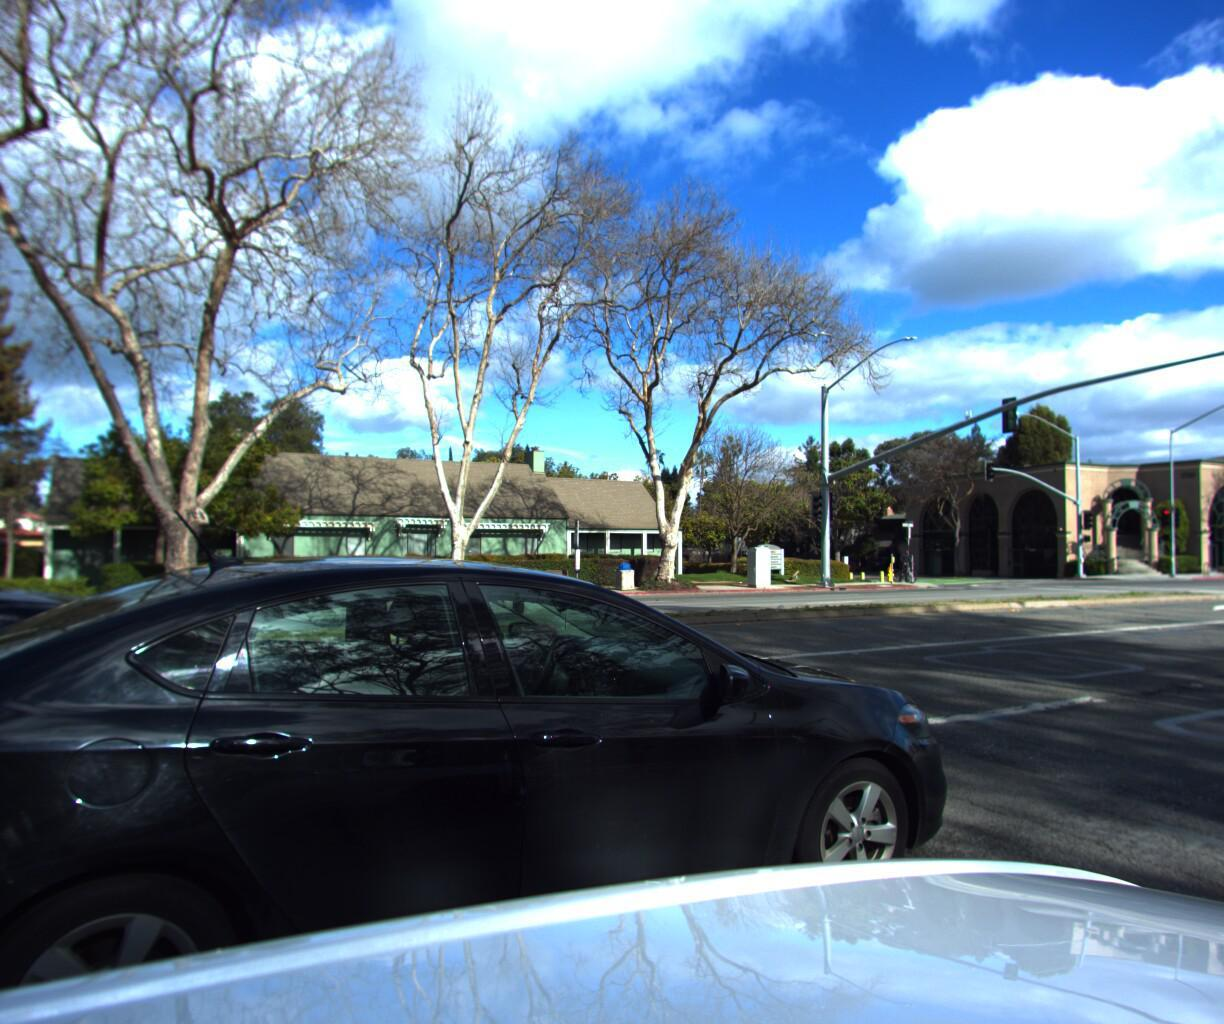bicycle: (881, 543, 922, 580)
car: (0, 541, 991, 1024), (0, 522, 163, 783)
